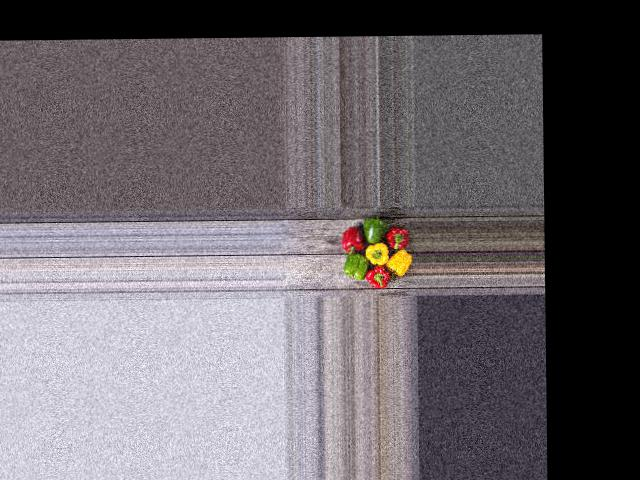bell_pepper: (386, 226, 414, 254)
